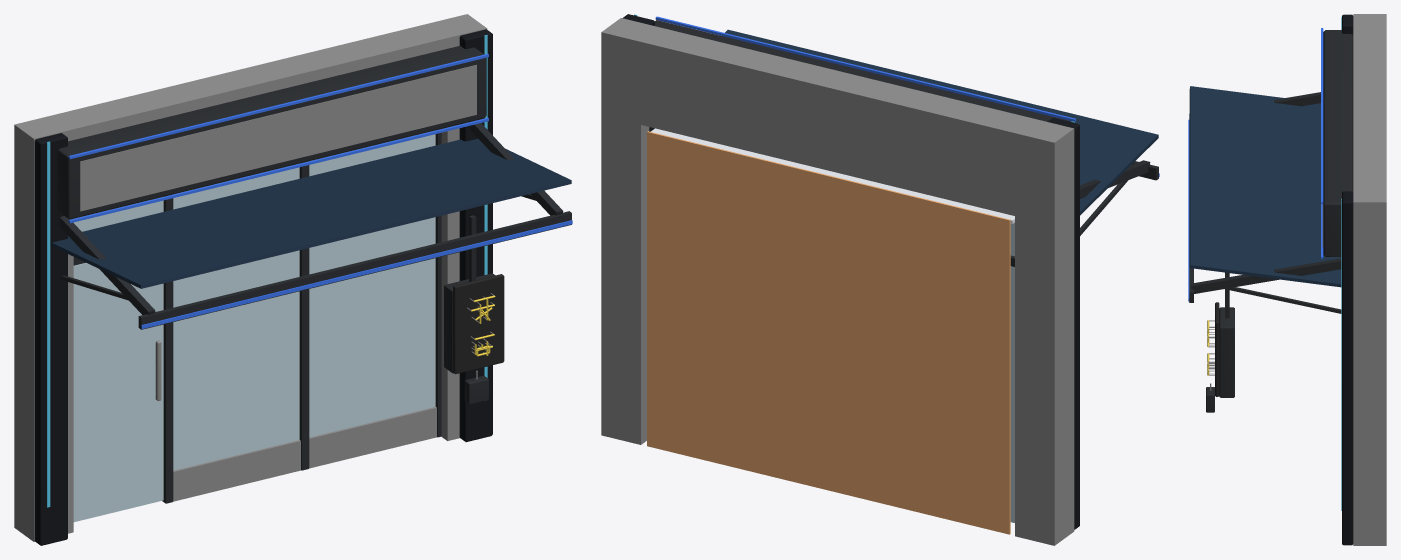
Rendered from Building_Facade_Panel_Shop_Awning.fbx.
The picture shows the model from 3 angles, left to right: view 1: azimuth 30°, elevation 25°; view 2: azimuth 150°, elevation 25°; view 3: azimuth 270°, elevation 25°; orthographic projection. The views are drawn at different scales.
Visible parts, largest first — view 1: Building_Facade_Panel_Shop_Awning_LOD0; view 2: Building_Facade_Panel_Shop_Awning_LOD0; view 3: Building_Facade_Panel_Shop_Awning_LOD0.
Boxes of the visible parts, x1,y1,x2,y2 form: Building_Facade_Panel_Shop_Awning_LOD0: (14, 14, 572, 545); Building_Facade_Panel_Shop_Awning_LOD0: (601, 14, 1159, 545); Building_Facade_Panel_Shop_Awning_LOD0: (1188, 14, 1386, 545).
Size of what is drawn, in the model's own units: 4 by 3.4 by 1.78.
